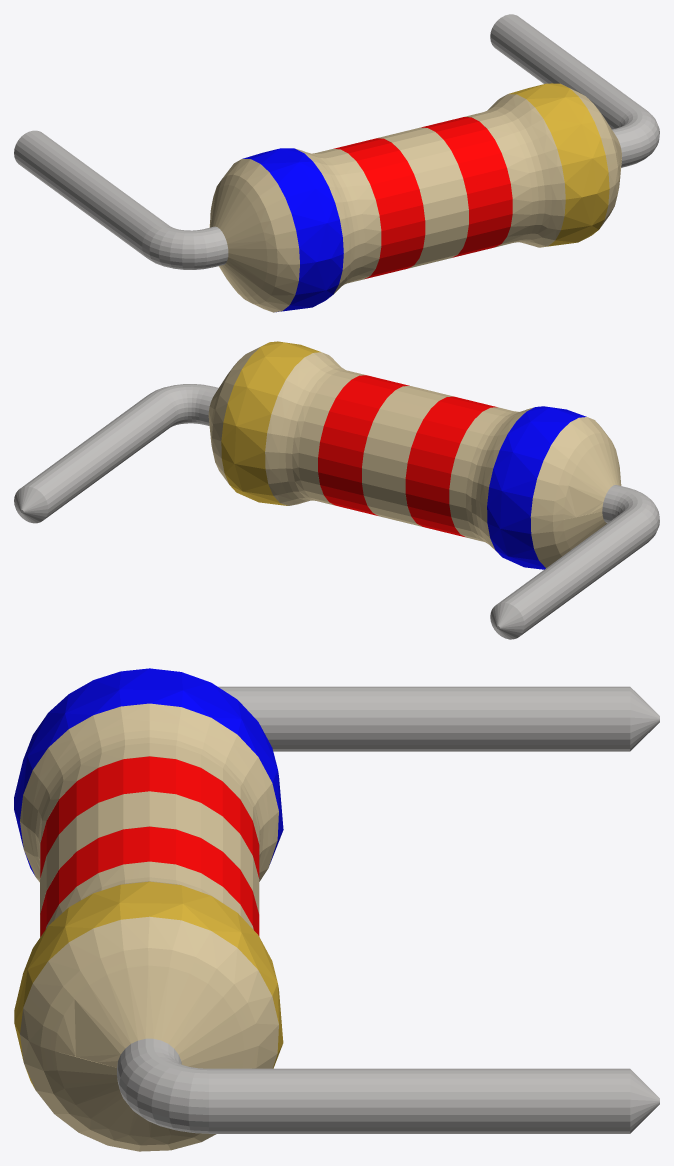
Rendered from Yageo CFR-25 Resistor Axial P7.62mm 6,2 kOhm.obj.
The picture shows the model from 3 angles, top to bottom: view 1: azimuth 30°, elevation 25°; view 2: azimuth 150°, elevation 25°; view 3: azimuth 270°, elevation 25°; orthographic projection. The views are drawn at different scales.
Visible parts, largest first — view 1: Yageo_CFR-25_Resistor_Axial_P7.62mm_6,2_kOhm; view 2: Yageo_CFR-25_Resistor_Axial_P7.62mm_6,2_kOhm; view 3: Yageo_CFR-25_Resistor_Axial_P7.62mm_6,2_kOhm.
Part boxes in pixels (x1=…): Yageo_CFR-25_Resistor_Axial_P7.62mm_6,2_kOhm: x1=14, y1=14, x2=659, y2=312; Yageo_CFR-25_Resistor_Axial_P7.62mm_6,2_kOhm: x1=14, y1=341, x2=659, y2=639; Yageo_CFR-25_Resistor_Axial_P7.62mm_6,2_kOhm: x1=14, y1=668, x2=659, y2=1151.
Bounding box in the file's own units: 0.0105 × 0.0029 × 0.00699.
